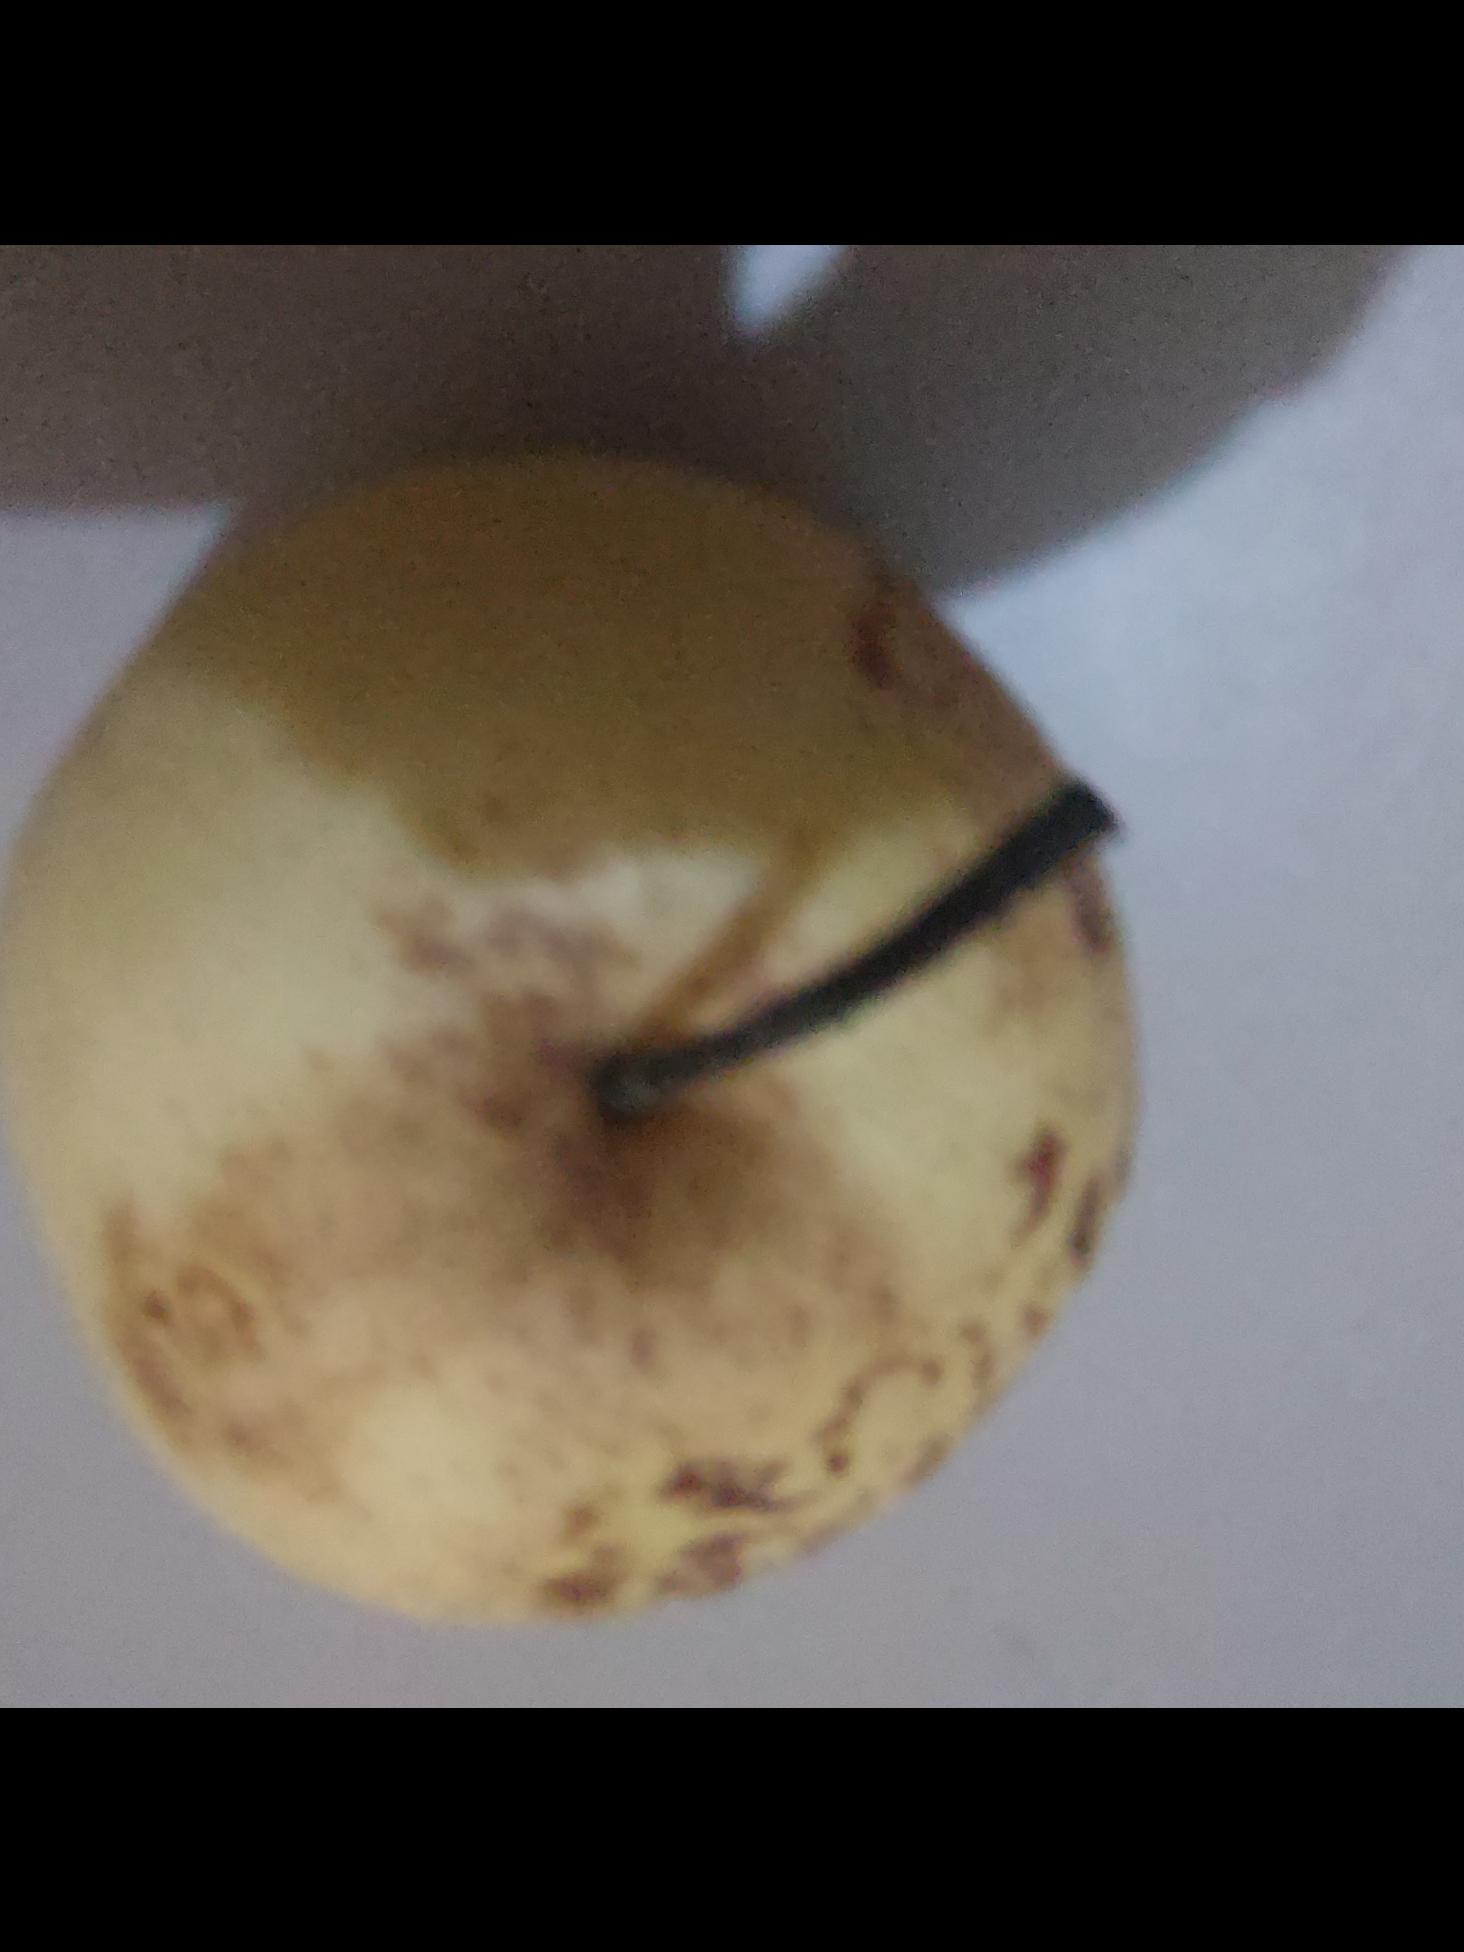Bad Pear: (0, 446, 1189, 1638)
